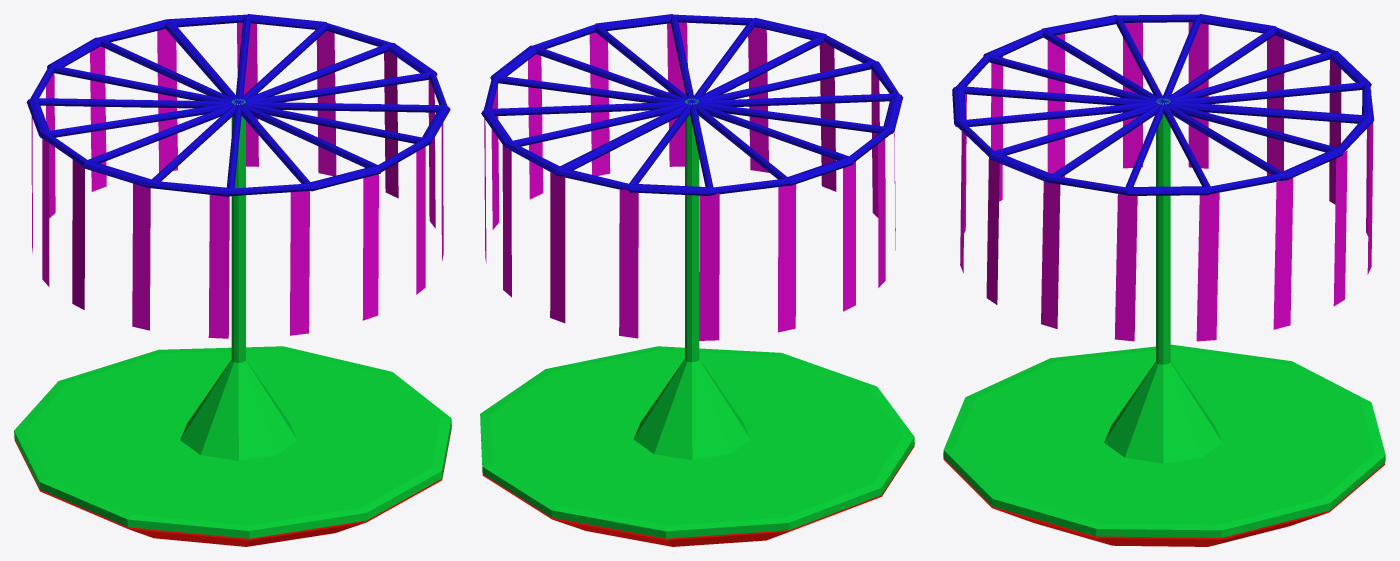
File: waterbenchan_dukgee.fbx
3 views of the same model, side by side, from view 1: azimuth 30°, elevation 25°; view 2: azimuth 150°, elevation 25°; view 3: azimuth 270°, elevation 25° (orthographic).
Visible parts, largest first — view 1: waterbench; view 2: waterbench; view 3: waterbench.
Boxes of the visible parts, x1,y1,x2,y2 form: waterbench: (14,14,451,546); waterbench: (480,14,914,546); waterbench: (943,14,1385,546).
Bounding box in the file's own units: 331 × 314 × 333.
